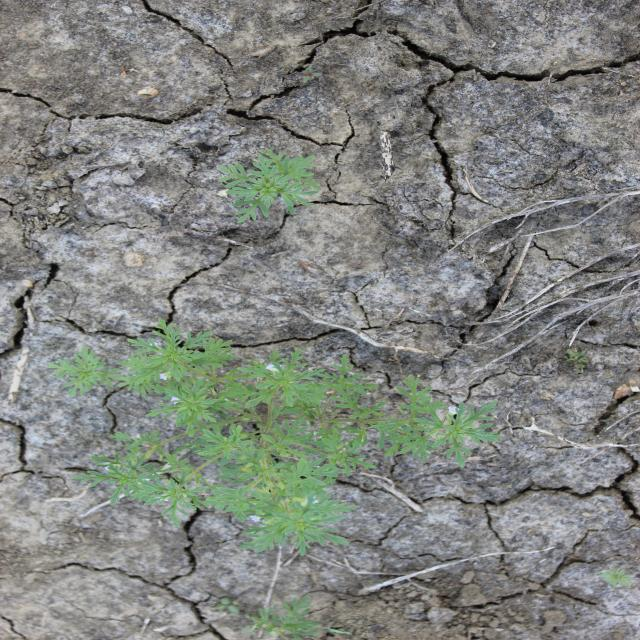Ragweed: (40, 316, 506, 558), (214, 146, 324, 225), (248, 594, 326, 638)
